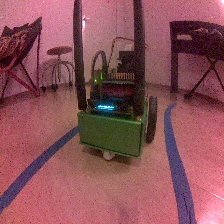rob: (76, 48, 158, 161)
